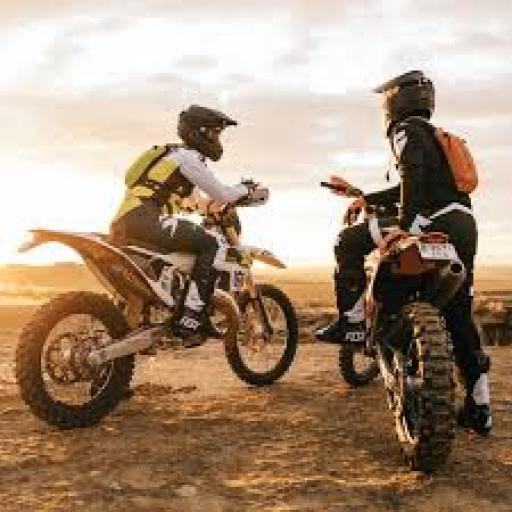overloading: (9, 57, 510, 473)
